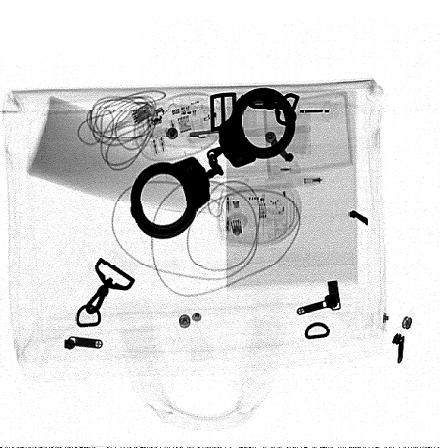HandCuffs: (129, 87, 298, 239)
